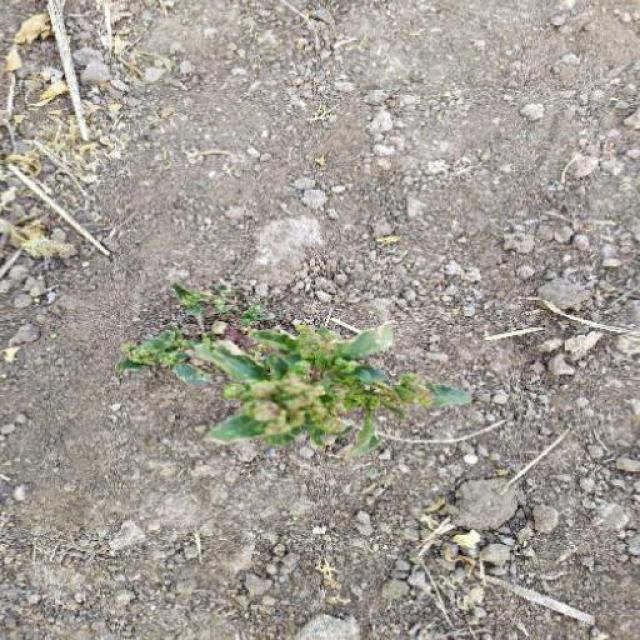weed: (132, 278, 462, 470)
